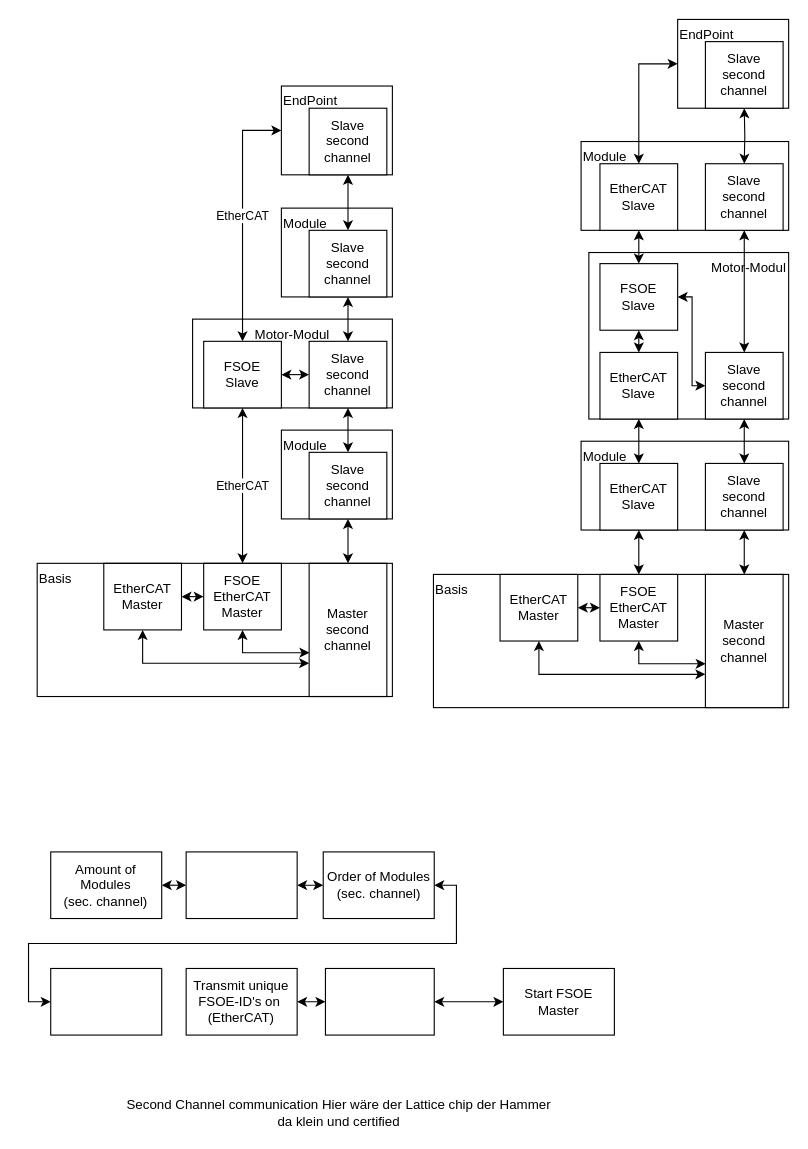
Image size: 808x1149. Some labels were removed from this diagram. Here are the shapes that lost their labels. From the top down, the centre of each, then its label:
At point 241,885: "Check if EndPoint exists (sec. channel)".
At point 106,1001: "Set unique FSOE-ID's (sec. channel)".
At point 379,1001: "Check Valitiy (EtherCAT Master <-> sec. channel Master)".
